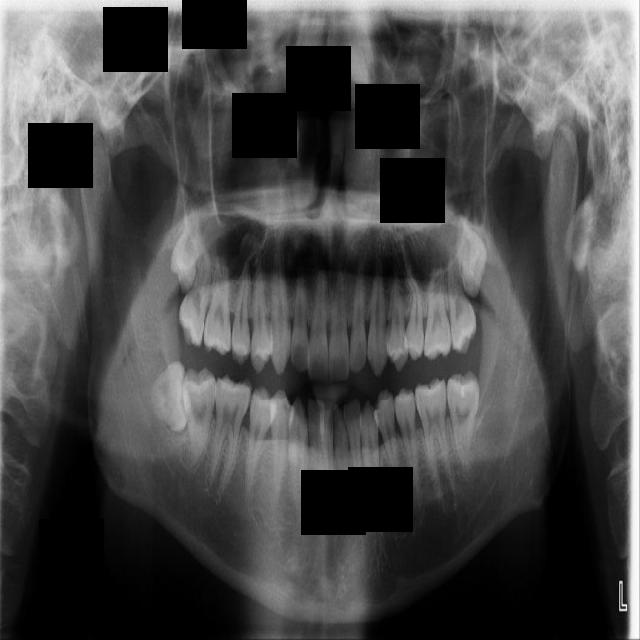3M ESPE Implant: (164, 191, 211, 296)
73: (589, 587, 599, 601)
BioHorizons Implant: (444, 246, 478, 355)
BioLife Implant: (452, 215, 491, 299)
Blue Sky Bio Implant: (447, 370, 480, 465)
Caries: (173, 242, 220, 348)
Implant: (180, 366, 222, 468)
Keystone Dental Implant: (145, 359, 197, 436)
